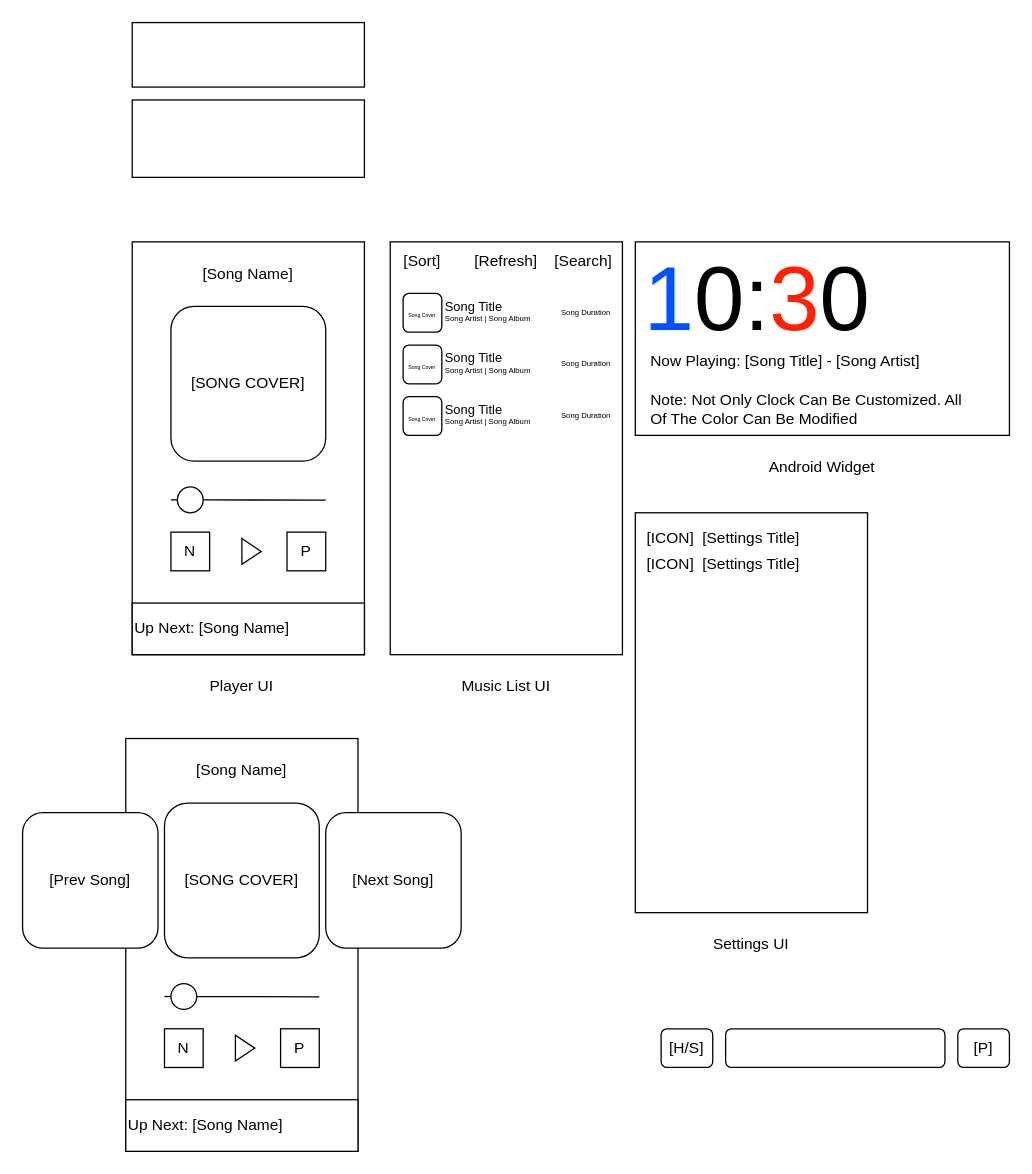
This 1032x1174 diagram has some shape labels left out. Each missing label, with the centre of its shape:
[HI RES DETECTOR]: the point at 834,1047
Halo Music Design By: Kanagawa Yamada: the point at 247,54
Material Colors & Material UI Standard Localization: the point at 247,138
